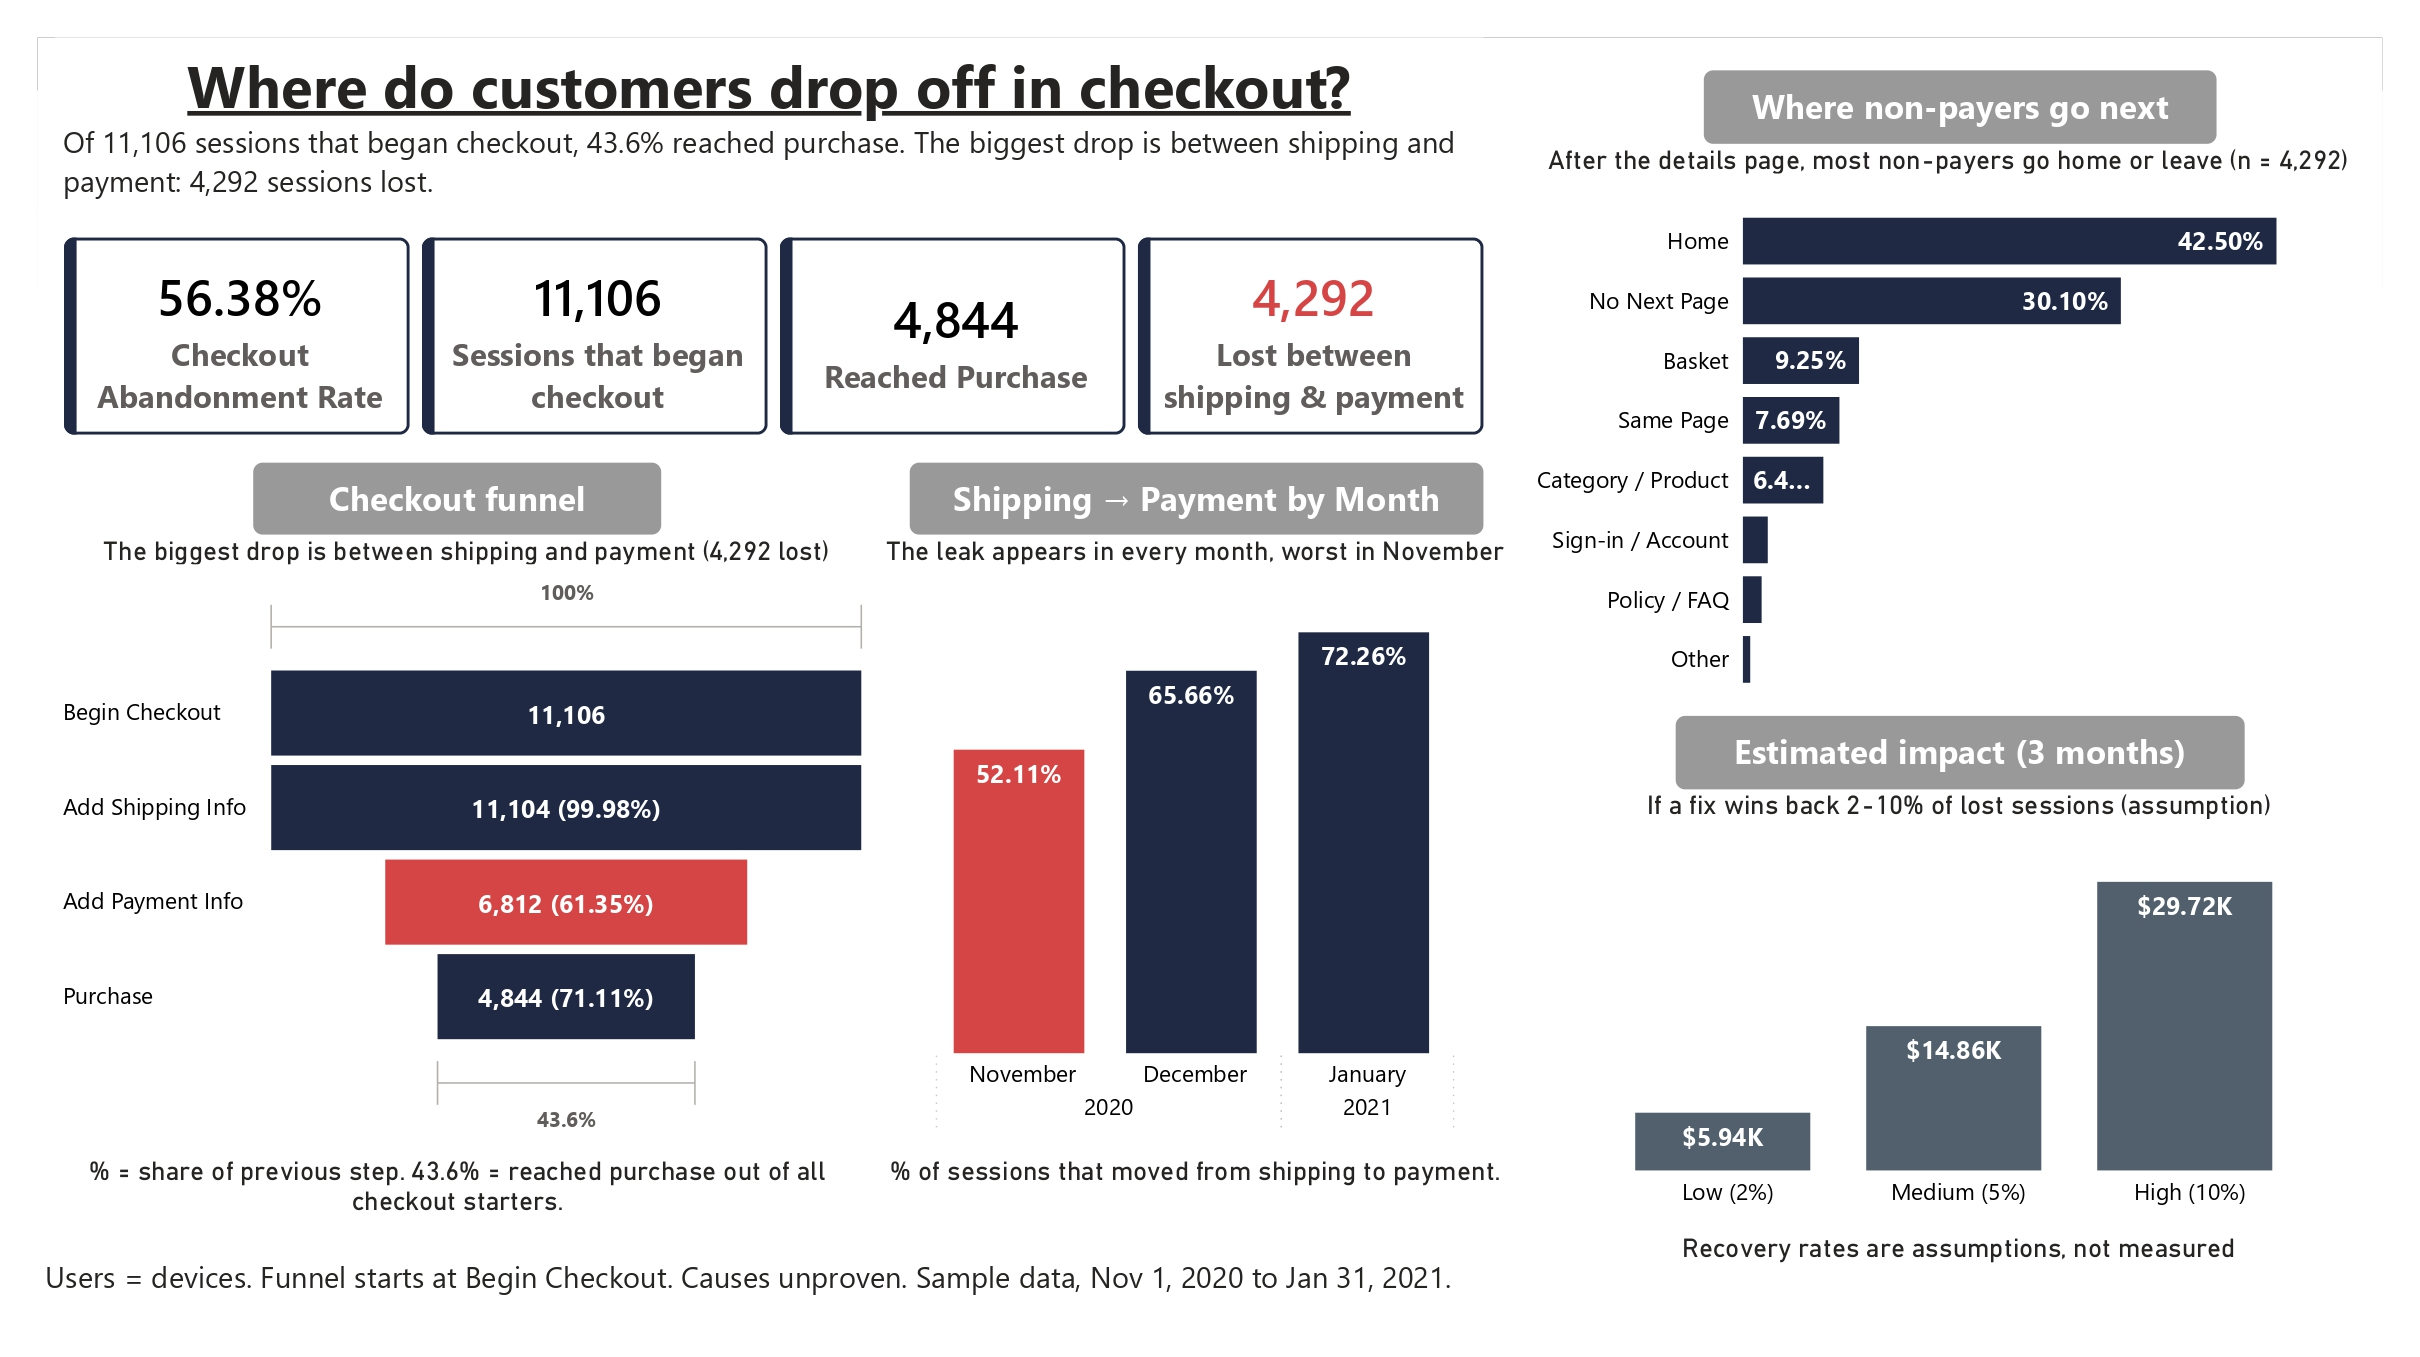

This screenshot's page, from the dashboard's own definition file:
{"tool":"powerbi","page":{"name":"Dashboard","canvas":[1500,820],"ordinal":0},"visuals":[{"type":"textbox","box":[11.3,0,913.4,111],"z":0},{"type":"clusteredColumnChart","title":"The leak appears in every month, worst in November","fields":{"Category":["session_funnel.event_date.Variation.Date Hierarchy.Year","session_funnel.event_date.Variation.Date Hierarchy.Month"],"Y":["session_funnel.ship_to_pay %"]},"box":[537.1,318.4,406.8,390.8],"z":1000},{"type":"cardVisual","fields":{"Data":["session_funnel.Checkout Abandonment Rate","CountNonNull(session_funnel.session_id)","session_funnel.Reached Purchase","session_funnel.Lost between shipping & payment"]},"box":[0,110.8,943.9,160.8],"z":2000},{"type":"textbox","box":[558,271.6,366.6,46.6],"z":3000},{"type":"funnel","title":"The biggest drop is between shipping and payment (4,292 lost)","fields":{"Category":["funnel_steps.Funnel Stage"],"Y":["Sum(funnel_steps.Count)"]},"box":[11.3,318.4,525.8,390.8],"z":4000},{"type":"barChart","title":"After the details page, most non-payers go home or leave (n = 4,292)","fields":{"Category":["page_location_buckets.bucket"],"Y":["Sum(page_location_buckets.Percentage)"]},"box":[943.9,67.5,556.4,366.6],"z":5000},{"type":"columnChart","title":"If a fix wins back 2-10% of lost sessions (assumption)","fields":{"Category":["impact.scenario"],"Y":["Sum(impact.extra_revenue_3_months)"]},"box":[958.4,480.8,541.9,278.2],"z":6000},{"type":"textbox","box":[138.3,271.8,260.5,46.6],"z":7000},{"type":"textbox","box":[1066.1,20.9,328,46.6],"z":8000},{"type":"textbox","box":[1048.5,434.2,363.4,46.6],"z":9000},{"type":"textbox","box":[0,775.1,943.9,45],"z":10000},{"type":"textbox","box":[0,709.8,537.1,49.9],"z":11000},{"type":"textbox","box":[537.1,709.8,406.8,49.9],"z":12000},{"type":"textbox","box":[1003.4,759,451.9,38.6],"z":13000}]}

Visuals, with their boxes on the page's 1500x820 design canvas (x1, y1, x2, y2). These are canvas units, not pixel positions in the 2420x1357 screenshot, which may show the page scaled, cropped or inside an application window:
textbox: x1=11, y1=0, x2=925, y2=111
"The leak appears in every month, worst in November" clusteredColumnChart: x1=537, y1=318, x2=944, y2=709
cardVisual - session_funnel.Checkout Abandonment Rate x CountNonNull(session_funnel.session_id): x1=0, y1=111, x2=944, y2=272
textbox: x1=558, y1=272, x2=925, y2=318
"The biggest drop is between shipping and payment (4,292 lost)" funnel: x1=11, y1=318, x2=537, y2=709
"After the details page, most non-payers go home or leave (n = 4,292)" barChart: x1=944, y1=68, x2=1500, y2=434
"If a fix wins back 2-10% of lost sessions (assumption)" columnChart: x1=958, y1=481, x2=1500, y2=759
textbox: x1=138, y1=272, x2=399, y2=318
textbox: x1=1066, y1=21, x2=1394, y2=68
textbox: x1=1048, y1=434, x2=1412, y2=481
textbox: x1=0, y1=775, x2=944, y2=820
textbox: x1=0, y1=710, x2=537, y2=760
textbox: x1=537, y1=710, x2=944, y2=760
textbox: x1=1003, y1=759, x2=1455, y2=798
